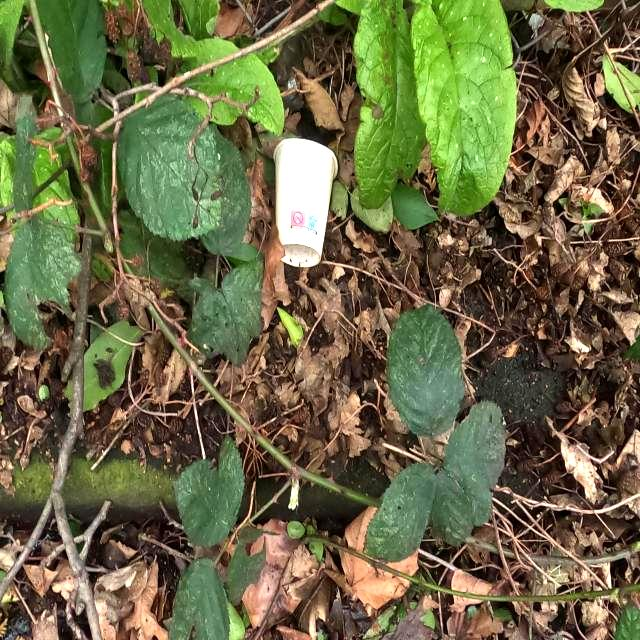Coffee Cup: (270, 137, 338, 269)
